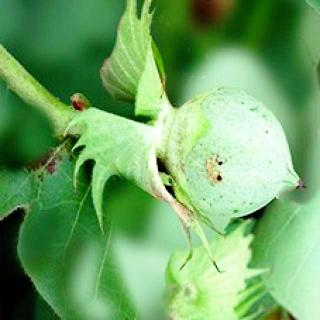leaf spot: (197, 149, 243, 193)
